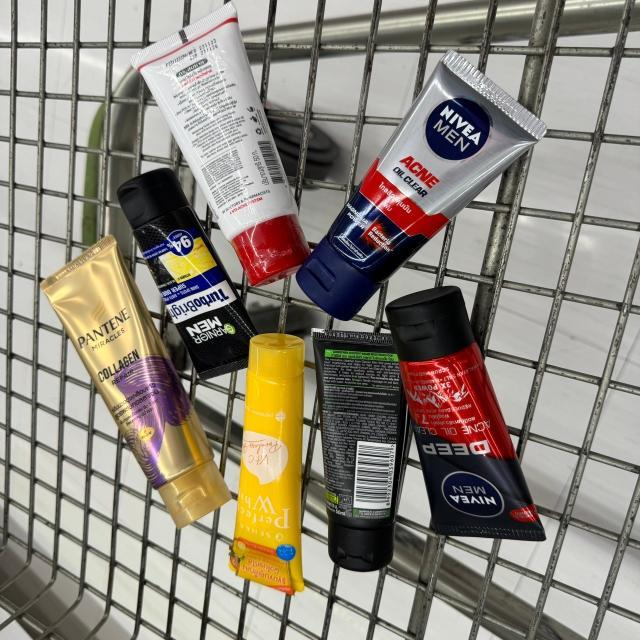Squeeze Tube: (283, 43, 564, 332), (26, 223, 244, 537), (124, 0, 325, 298), (373, 272, 563, 550), (106, 155, 273, 387), (307, 319, 425, 572), (224, 323, 314, 603)
